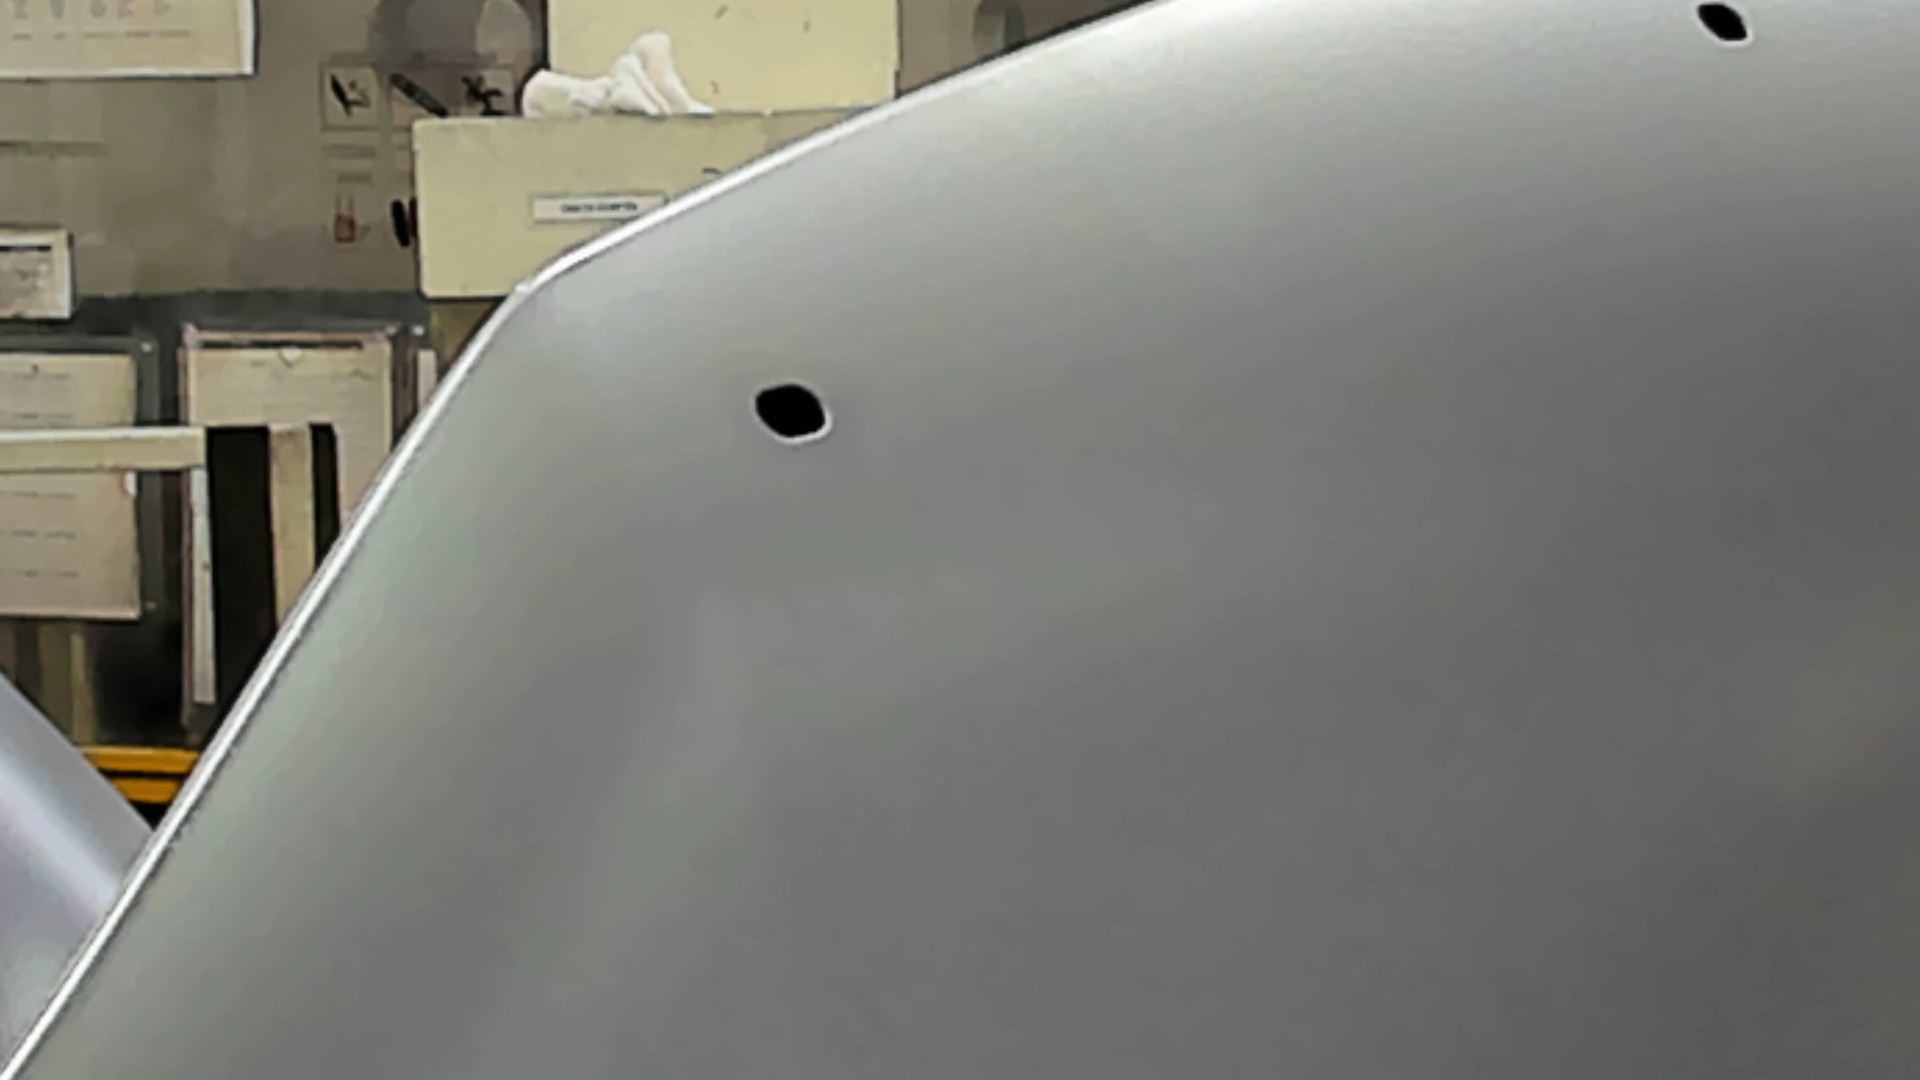amorfo: (748, 378, 837, 447), (1693, 1, 1754, 50)
